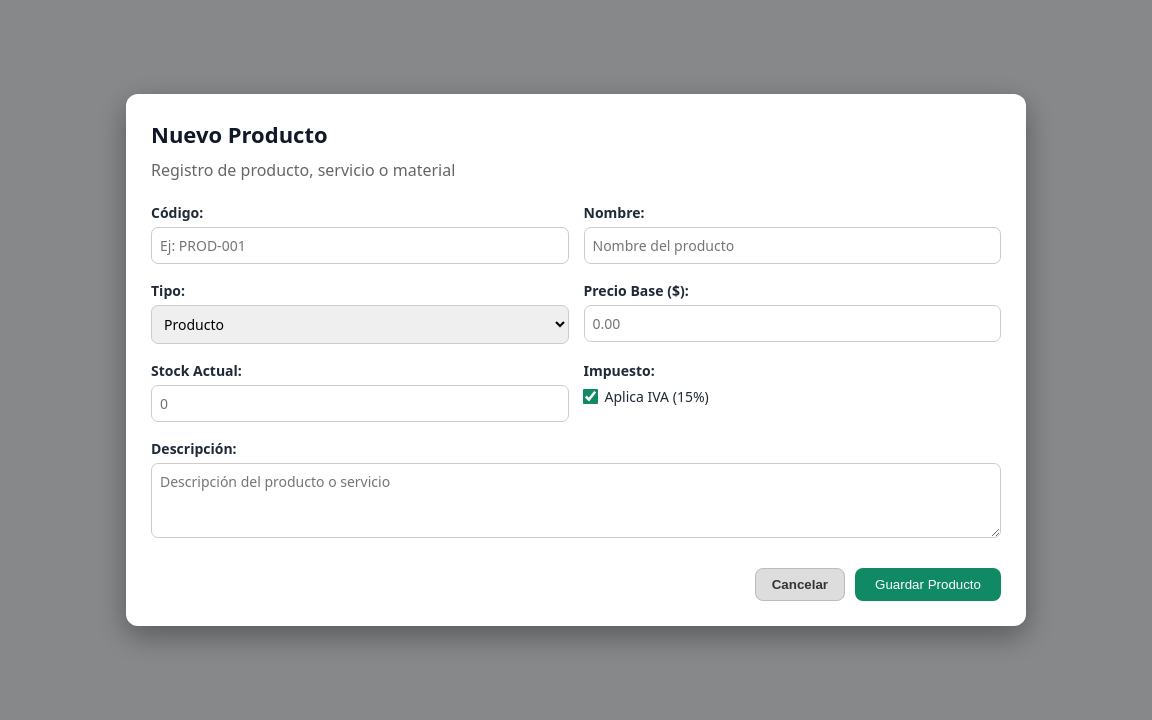
Test: ProductModal Component › shows validation errors when saving empty form
The width and height of the screenshot is (1152, 720).
Click the button "Guardar Producto". click: (928, 584)
box: [855,568,1001,601]
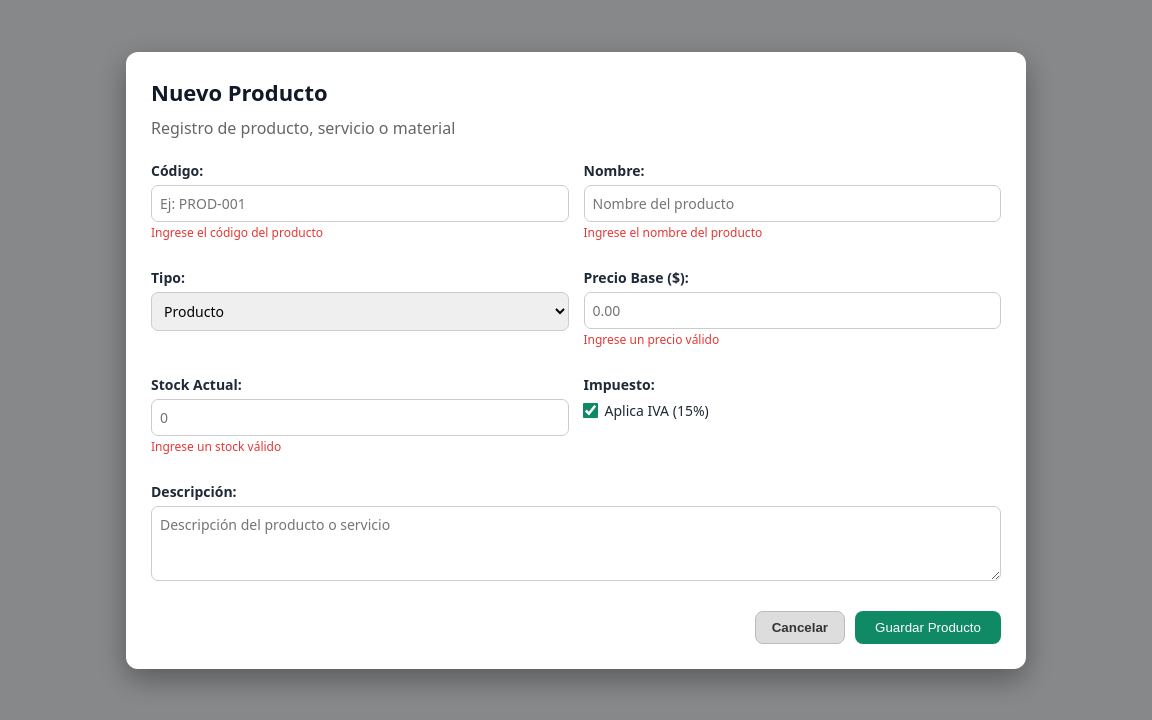
Now the text "Ingrese el código del producto" is shown, box [151,224,323,240]
Now the text "Ingrese el nombre del producto" is shown, box [584,224,762,240]
Now the text "Ingrese un precio válido" is shown, box [584,330,719,348]
